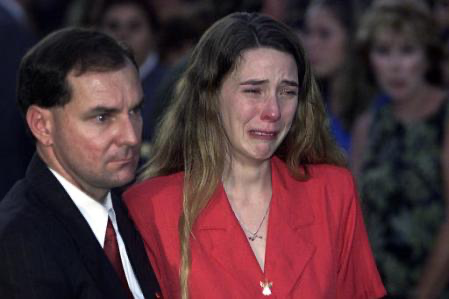Face: (63, 80, 145, 195), (230, 62, 298, 167), (371, 33, 427, 104), (300, 11, 350, 76)
